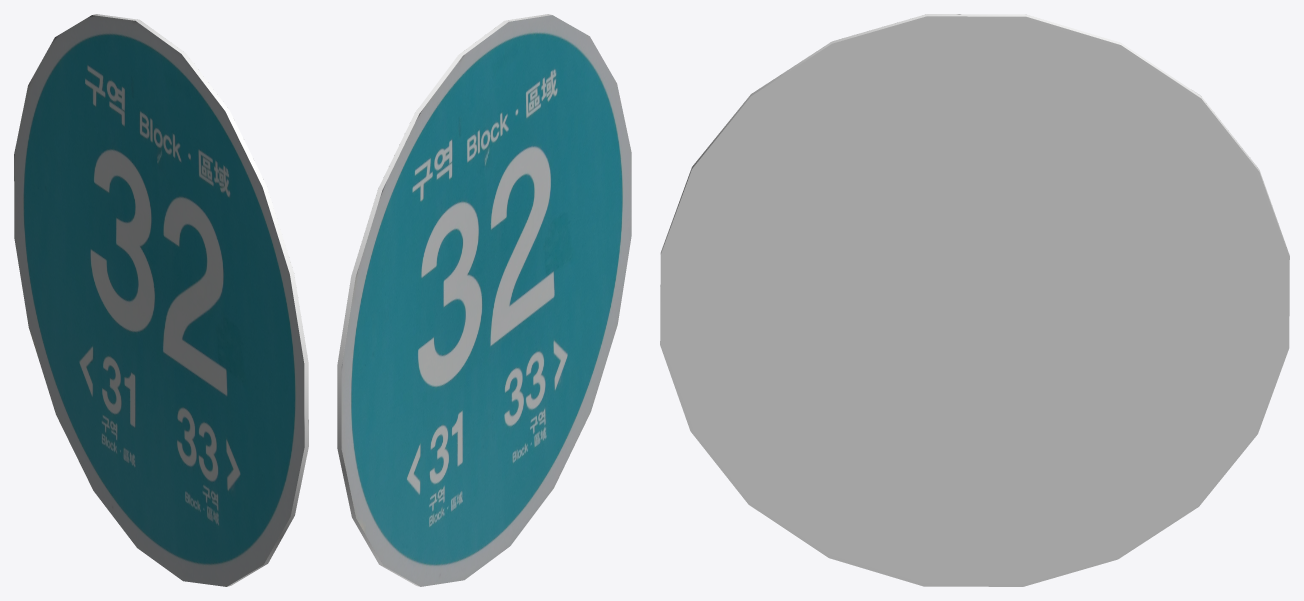
Rendered from SM_011_Seat_3_5.fbx.
3 renders of one model, left to right at view 1: azimuth 30°, elevation 25°; view 2: azimuth 150°, elevation 25°; view 3: azimuth 270°, elevation 25°, orthographic. The views are drawn at different scales.
Visible parts, largest first — view 1: SM_011_Seat_3_5; view 2: SM_011_Seat_3_5; view 3: SM_011_Seat_3_5.
Part boxes in pixels (<box>): SM_011_Seat_3_5: <box>14,14,308,586</box>; SM_011_Seat_3_5: <box>337,14,631,586</box>; SM_011_Seat_3_5: <box>660,14,1289,586</box>.
Bounding box in the file's own units: 0.3879 × 44.73 × 44.73.
Materials: 1 (1 with a texture image).
